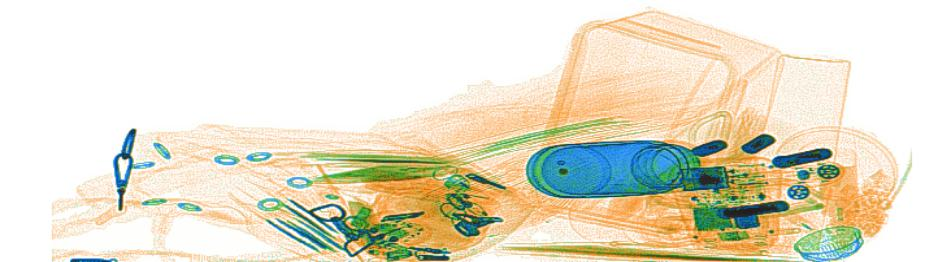plasticBottleWithaNozzle: (819, 143, 857, 243)
